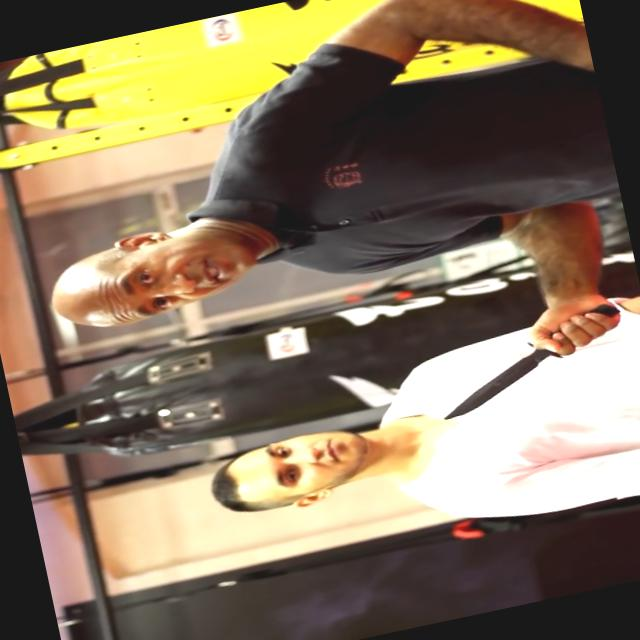knife: (419, 293, 639, 424)
